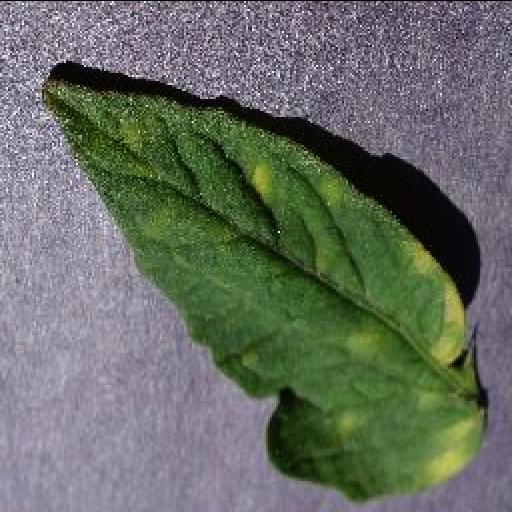disease_tomato: (40, 80, 488, 501)
